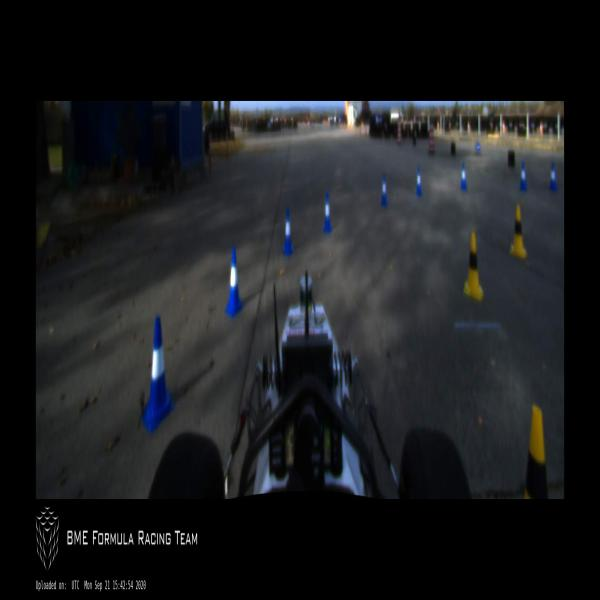blue_cone: (142, 316, 174, 434), (223, 248, 243, 316), (280, 208, 294, 254), (322, 192, 332, 233), (548, 163, 558, 192), (380, 174, 388, 205), (519, 161, 527, 191), (415, 166, 423, 195), (460, 162, 467, 190)
yellow_cone: (523, 402, 548, 497), (464, 234, 481, 298), (509, 204, 526, 258)
